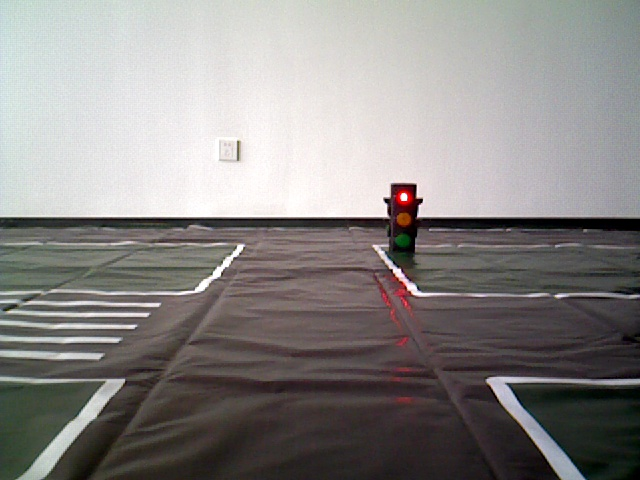red: (391, 183, 416, 257)
